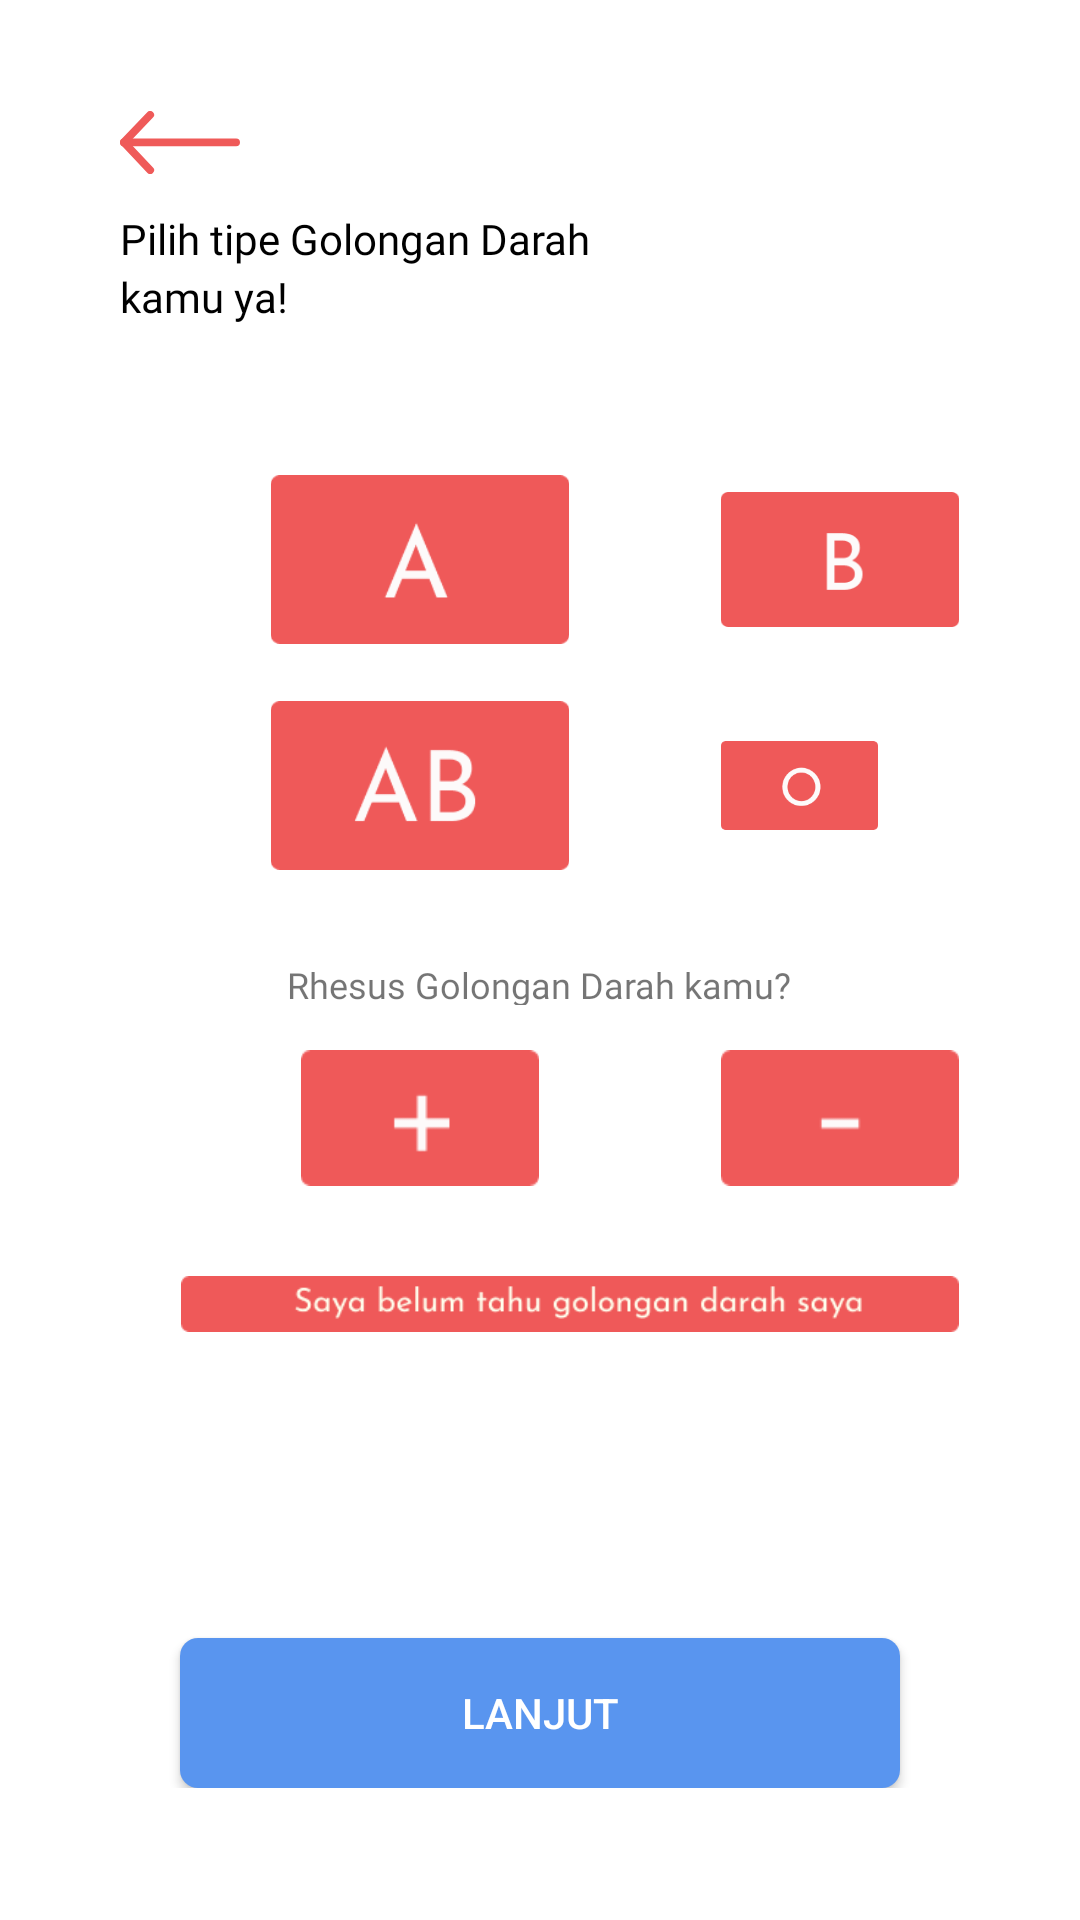

Icons on this 1080w x 1920h Android screen, each with the point to tap as [x,y]:
back: [180,142]
rhesus negatif: [840,1118]
rhesus positif: [420,1118]
